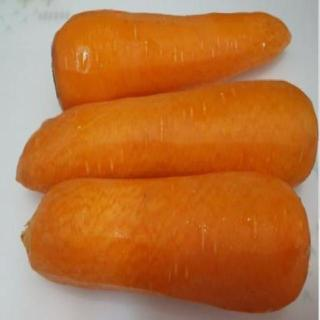carrot: (20, 168, 312, 318), (13, 75, 320, 198), (50, 4, 294, 114)
